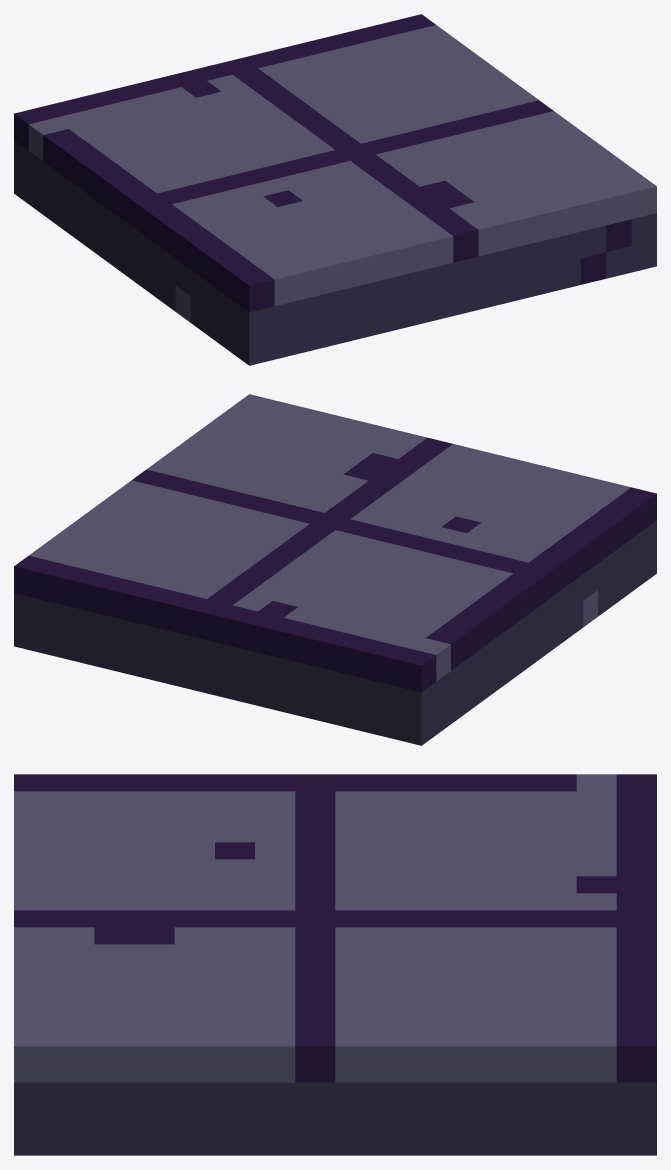
Rendered from floor_stone.obj.
The picture shows the model from 3 angles, top to bottom: view 1: azimuth 30°, elevation 25°; view 2: azimuth 150°, elevation 25°; view 3: azimuth 270°, elevation 25°; orthographic projection. The views are drawn at different scales.
Visible parts, largest first — view 1: floor_stone; view 2: floor_stone; view 3: floor_stone.
Boxes of the visible parts, x1,y1,x2,y2 form: floor_stone: (14, 14, 656, 365); floor_stone: (14, 394, 656, 745); floor_stone: (14, 774, 656, 1155).
Size of the model in its own units: 1 by 0.1875 by 1.
1 material, 1 textured.
